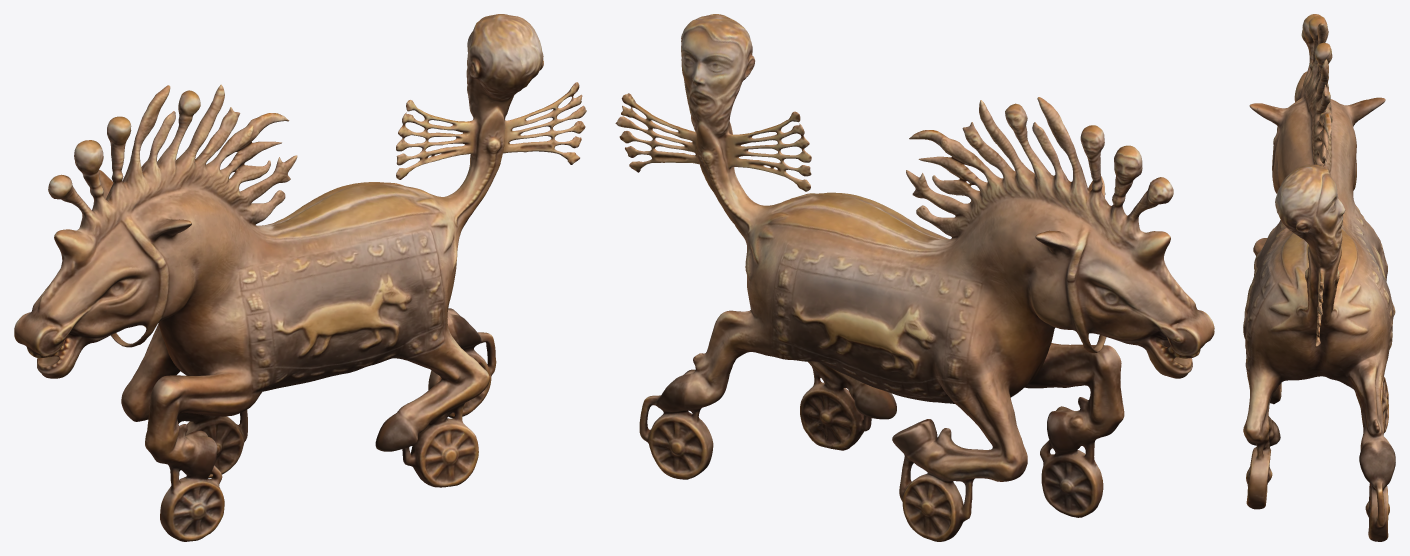
Rendered from parekh-horse.glb.
3 views of the same model, side by side, from view 1: azimuth 30°, elevation 25°; view 2: azimuth 150°, elevation 25°; view 3: azimuth 270°, elevation 25° (orthographic). The views are drawn at different scales.
Parts seen in each view (by area): view 1: Mesh; view 2: Mesh; view 3: Mesh.
Boxes of the visible parts, x1,y1,x2,y2 form: Mesh: [14, 14, 586, 541]; Mesh: [615, 14, 1214, 541]; Mesh: [1243, 14, 1395, 541].
Bounding box in the file's own units: 23.97 × 17.18 × 6.28.
Materials: 1 (1 with a texture image).
